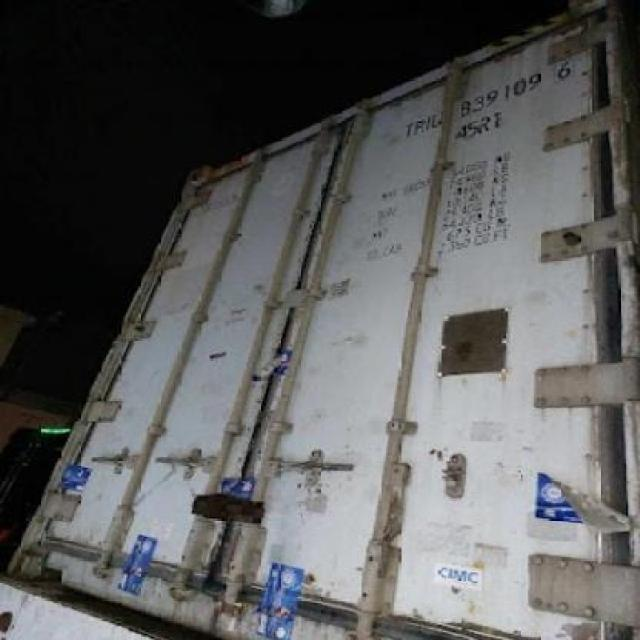ISO: (452, 113, 508, 146)
container_number: (402, 54, 576, 140)
